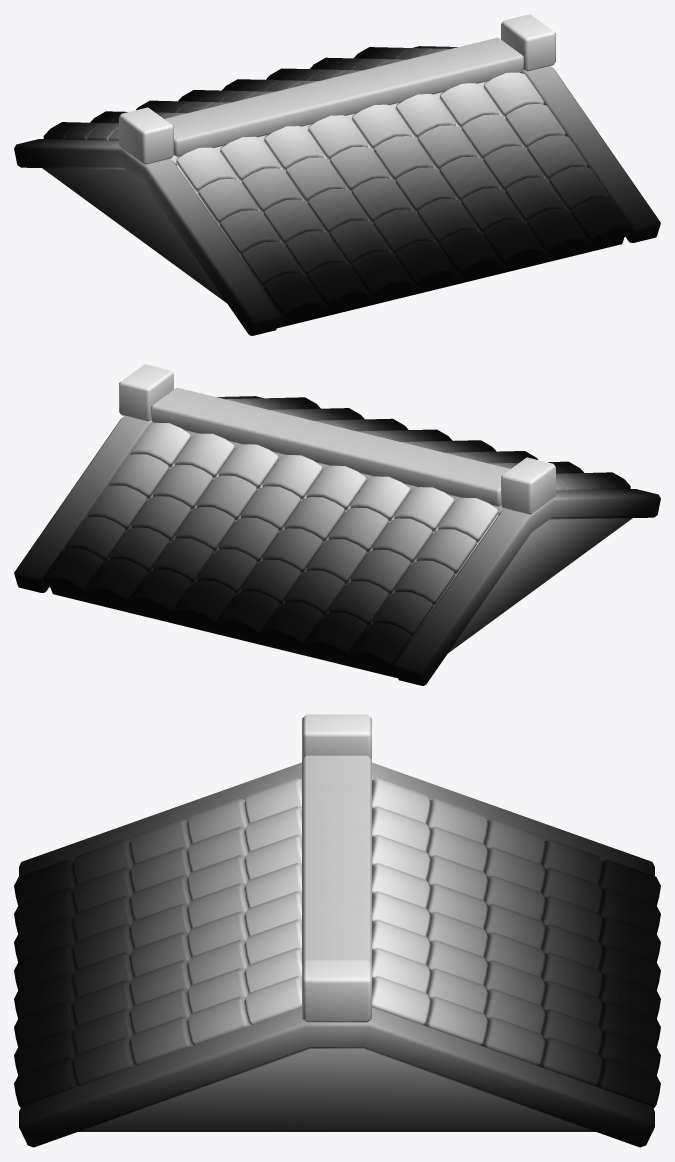
The model's file is SM_Brick_Roof_02.fbx.
The picture shows the model from 3 angles, top to bottom: view 1: azimuth 30°, elevation 25°; view 2: azimuth 150°, elevation 25°; view 3: azimuth 270°, elevation 25°; orthographic projection. The views are drawn at different scales.
Visible parts, largest first — view 1: SM_Brick_Roof_02; view 2: SM_Brick_Roof_02; view 3: SM_Brick_Roof_02.
Part boxes in pixels (x1,y1,x2,y2): SM_Brick_Roof_02: (14,14,660,335); SM_Brick_Roof_02: (14,364,660,685); SM_Brick_Roof_02: (14,714,660,1147).
Size of the model in its own units: 2.01 by 0.6223 by 2.07.
